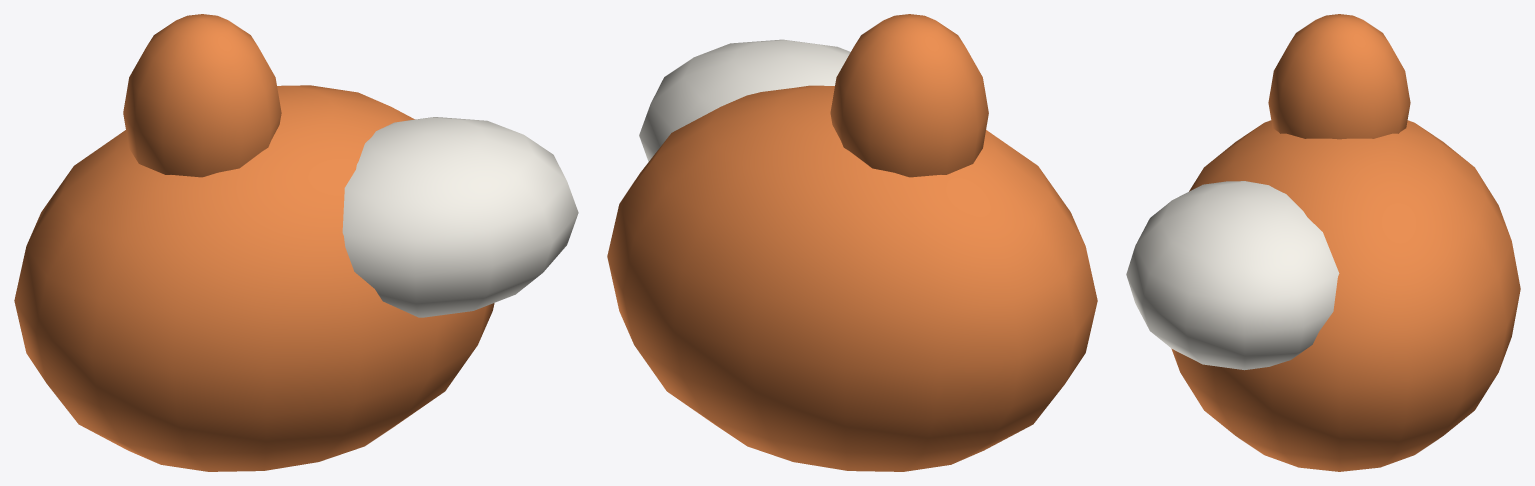
The model's file is dirty_laundry.glb.
The picture shows the model from 3 angles, left to right: view 1: azimuth 30°, elevation 25°; view 2: azimuth 150°, elevation 25°; view 3: azimuth 270°, elevation 25°; orthographic projection. The views are drawn at different scales.
Visible parts, largest first — view 1: uniform, sheet; view 2: uniform, sheet; view 3: uniform, sheet.
Part boxes in pixels (bbox=[...]): uniform: bbox=[14, 14, 494, 471]; sheet: bbox=[342, 117, 578, 317]; uniform: bbox=[607, 14, 1097, 471]; sheet: bbox=[639, 39, 850, 161]; uniform: bbox=[1171, 14, 1520, 471]; sheet: bbox=[1126, 181, 1339, 370].
Size of the model in its own units: 0.4155 by 0.3725 by 0.333.
